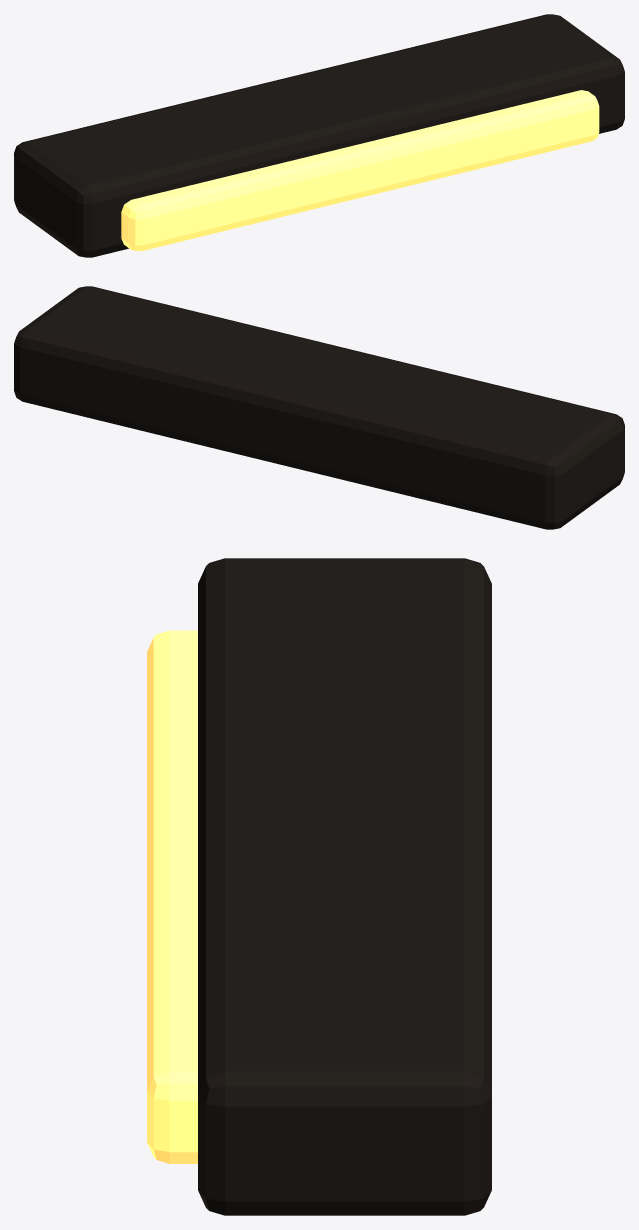
The model's file is under-cabinet-light.glb.
3 renders of one model, top to bottom at view 1: azimuth 30°, elevation 25°; view 2: azimuth 150°, elevation 25°; view 3: azimuth 270°, elevation 25°, orthographic. The views are drawn at different scales.
Visible parts, largest first — view 1: SM_UnderCabinetHousing, SM_UnderCabinetDiffuser; view 2: SM_UnderCabinetHousing; view 3: SM_UnderCabinetHousing, SM_UnderCabinetDiffuser.
Part boxes in pixels (x1,y1,x2,y2): SM_UnderCabinetHousing: (14, 14, 624, 257); SM_UnderCabinetDiffuser: (121, 90, 599, 251); SM_UnderCabinetHousing: (14, 286, 624, 529); SM_UnderCabinetHousing: (198, 558, 491, 1215); SM_UnderCabinetDiffuser: (147, 630, 197, 1163).
Bounding box in the file's own units: 0.56 × 0.07 × 0.1525.
